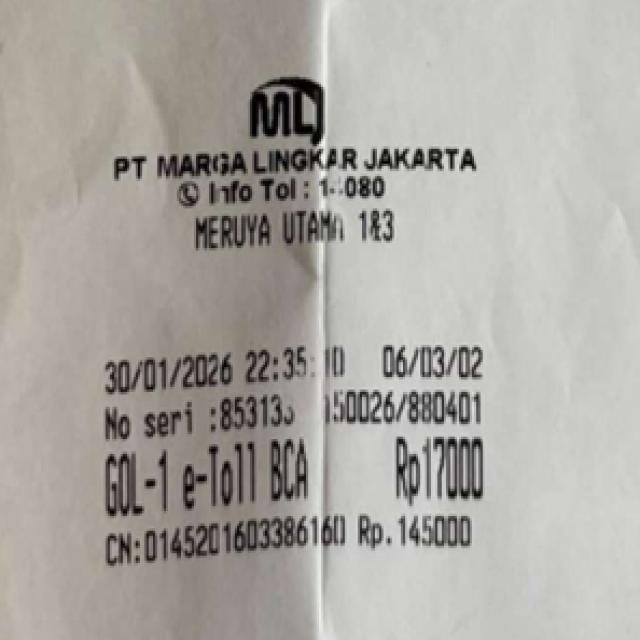date: (90, 344, 363, 402)
store: (102, 148, 492, 186)
total: (389, 434, 509, 508)
